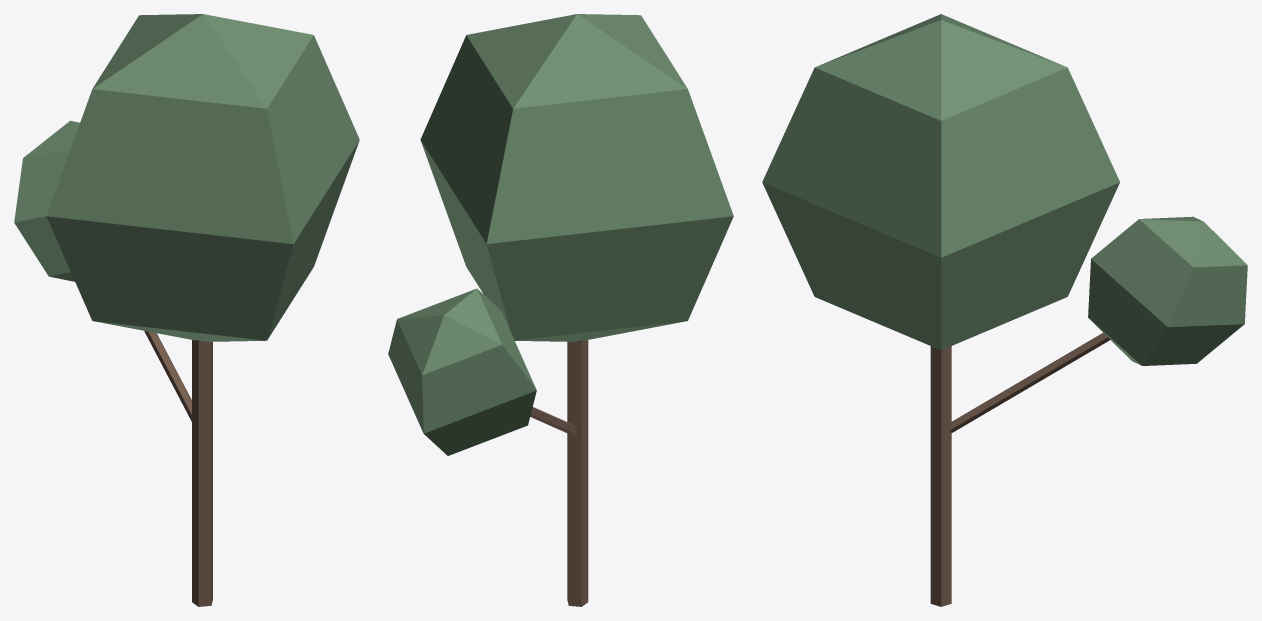
Rendered from tree_2.fbx.
The picture shows the model from 3 angles, left to right: view 1: azimuth 30°, elevation 25°; view 2: azimuth 150°, elevation 25°; view 3: azimuth 270°, elevation 25°; orthographic projection.
Parts seen in each view (by area): view 1: pSphere8; view 2: pSphere8; view 3: pSphere8.
Boxes of the visible parts, x1,y1,x2,y2 form: pSphere8: [14, 14, 359, 606]; pSphere8: [388, 14, 733, 606]; pSphere8: [762, 14, 1247, 606].
Bounding box in the file's own units: 90.09 × 162 × 122.
